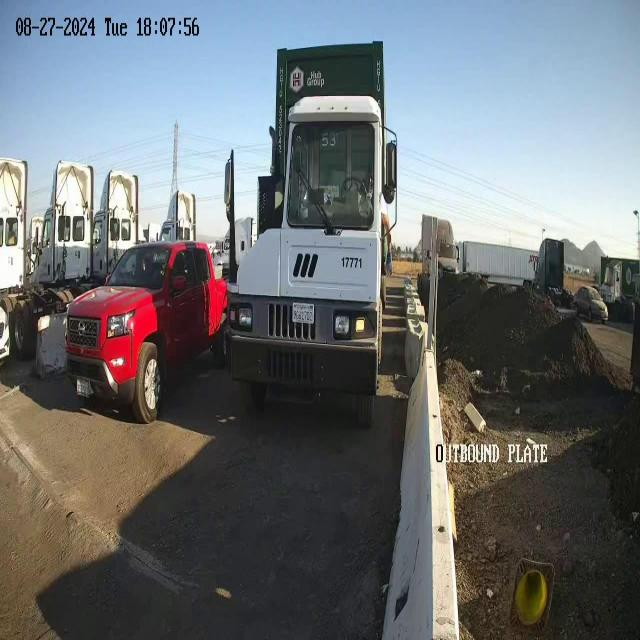TRUCK_CONTAINER: (223, 39, 399, 426)
